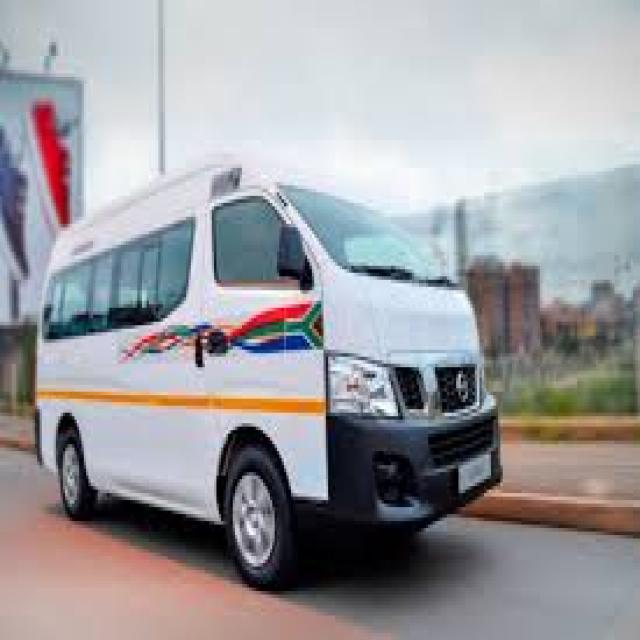MiniBus taxi: (19, 158, 507, 594)
